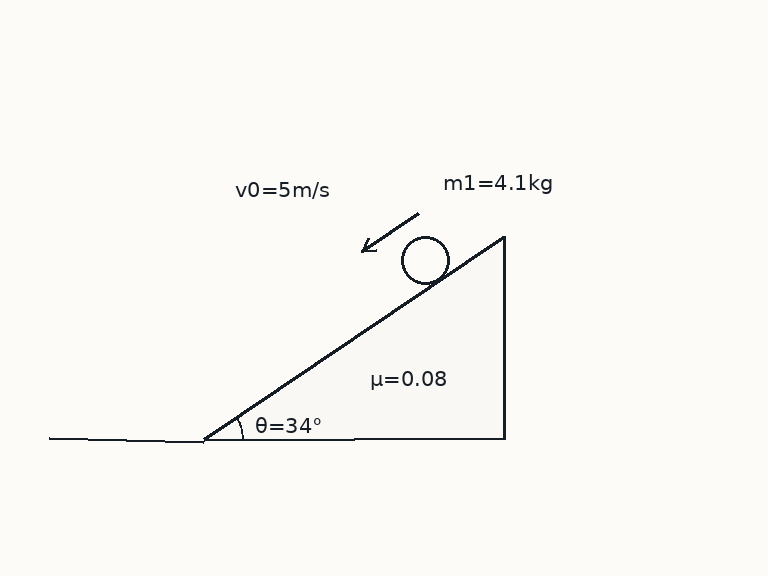ball: (399, 234, 451, 286)
ramp: (201, 235, 505, 441)
